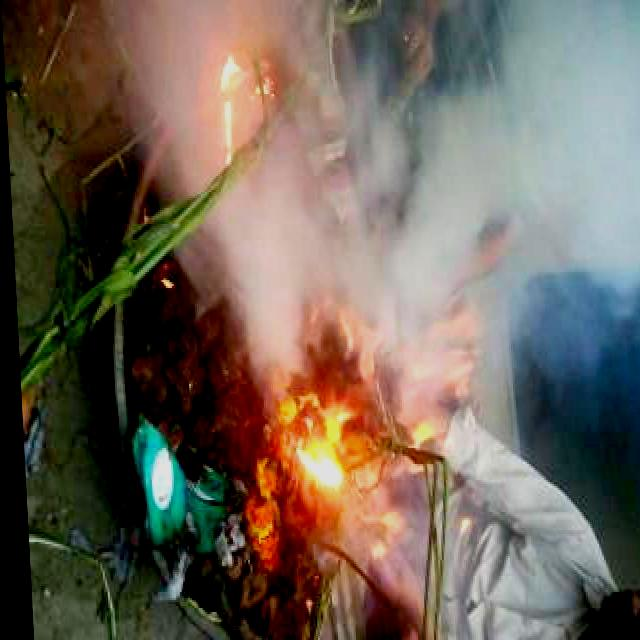helmet: (238, 374, 473, 576)
no_helmet: (226, 0, 640, 374)
